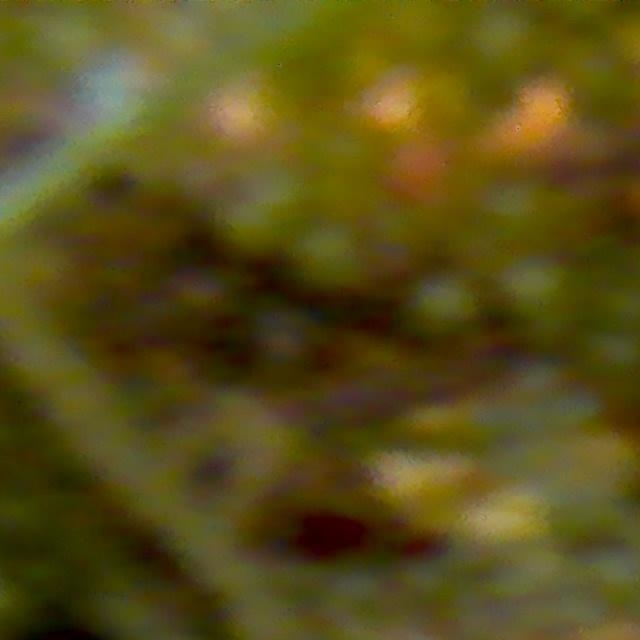SeaGrape: (223, 153, 312, 242), (496, 248, 584, 335), (463, 0, 550, 87), (293, 217, 371, 297), (480, 171, 559, 243), (247, 300, 319, 375), (406, 267, 480, 338), (562, 43, 633, 115), (386, 0, 461, 59), (582, 324, 640, 385)
